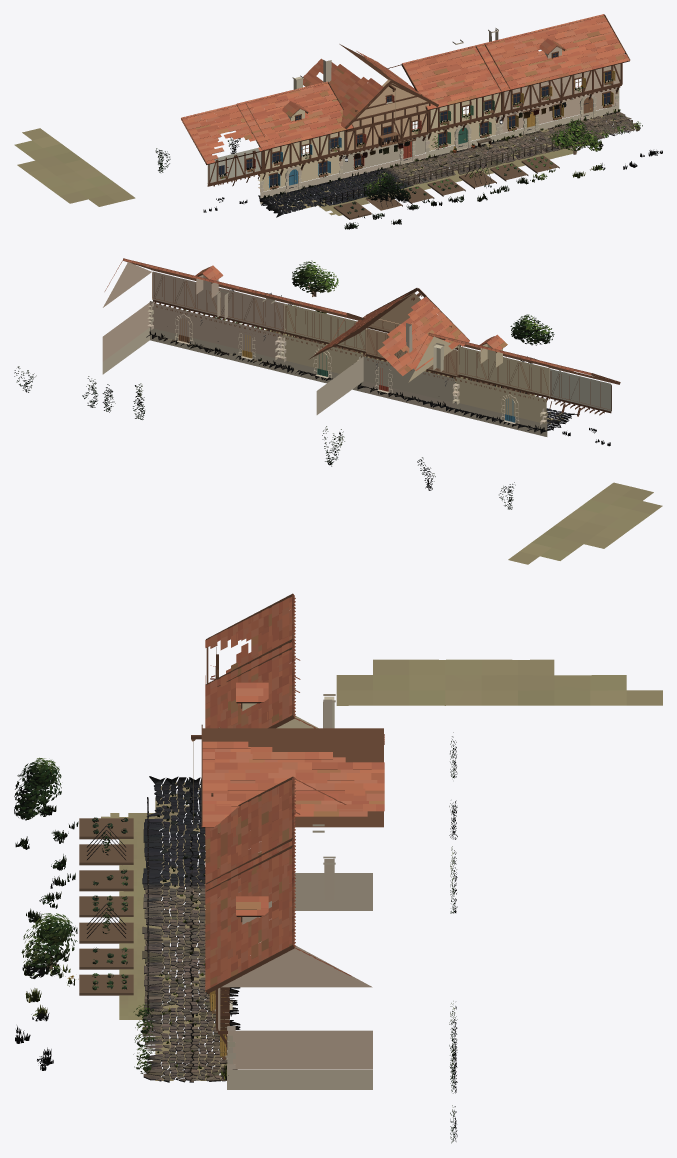
File: barrio_residencial.glb
The picture shows the model from 3 angles, top to bottom: view 1: azimuth 30°, elevation 25°; view 2: azimuth 150°, elevation 25°; view 3: azimuth 270°, elevation 25°; orthographic projection. The views are drawn at different scales.
Parts seen in each view (by area): view 1: fijo_residencial, piezas_residencial, vegetacion_residencial; view 2: fijo_residencial, vegetacion_residencial, piezas_residencial; view 3: fijo_residencial, piezas_residencial, vegetacion_residencial.
Boxes of the visible parts, x1,y1,x2,y2 form: fijo_residencial: (14, 14, 639, 219); piezas_residencial: (258, 102, 640, 217); vegetacion_residencial: (155, 78, 662, 229); fijo_residencial: (102, 258, 662, 564); vegetacion_residencial: (14, 260, 610, 509); piezas_residencial: (146, 330, 579, 433); fijo_residencial: (44, 593, 662, 1089); piezas_residencial: (87, 776, 240, 1082); vegetacion_residencial: (14, 732, 457, 1143).
Bounding box in the file's own units: 61.12 × 11.3 × 35.81.
